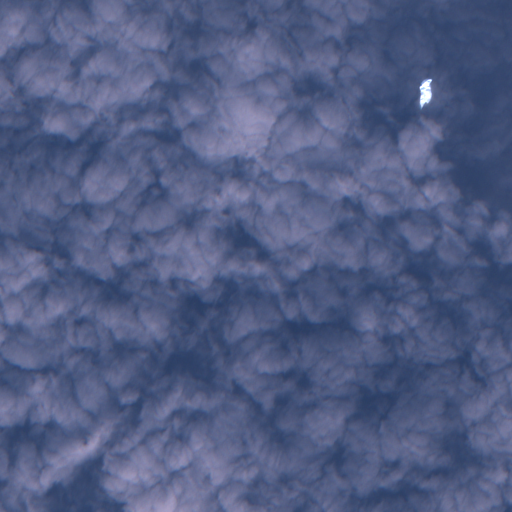Iceberg: (419, 79, 432, 108)
